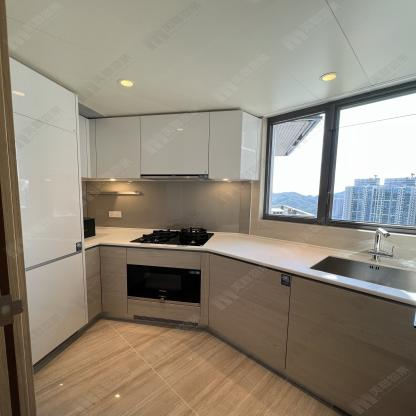Cupboard: (199, 250, 415, 414), (81, 107, 260, 185)
Exhaust Hood: (138, 173, 212, 180)
Faucet: (368, 224, 394, 266)
Oven: (127, 263, 200, 306)
Sink: (315, 258, 414, 293)
Stove: (130, 227, 215, 249)
